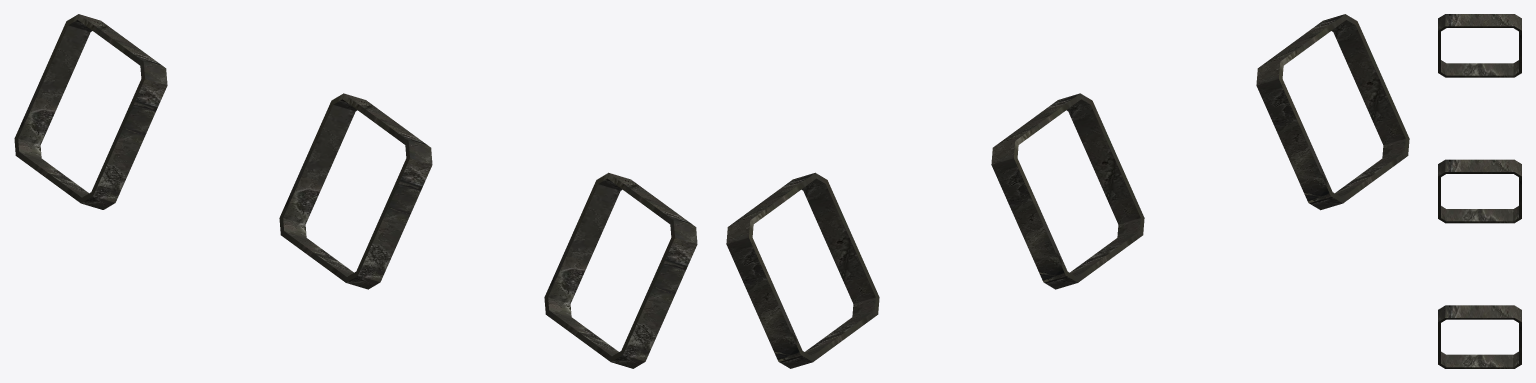
3 renders of one model, left to right at view 1: azimuth 30°, elevation 25°; view 2: azimuth 150°, elevation 25°; view 3: azimuth 270°, elevation 25°, orthographic. The views are drawn at different scales.
Parts seen in each view (by area): view 1: SM_BB_T3_Extended_Beam_Thick_Large_Vertical_02_LOD0; view 2: SM_BB_T3_Extended_Beam_Thick_Large_Vertical_02_LOD0; view 3: SM_BB_T3_Extended_Beam_Thick_Large_Vertical_02_LOD0.
Part boxes in pixels (<box>): SM_BB_T3_Extended_Beam_Thick_Large_Vertical_02_LOD0: <box>14,14,697,368</box>; SM_BB_T3_Extended_Beam_Thick_Large_Vertical_02_LOD0: <box>726,14,1409,368</box>; SM_BB_T3_Extended_Beam_Thick_Large_Vertical_02_LOD0: <box>1438,14,1521,368</box>.
Size of the model in its own units: 2.47 by 1.64 by 0.5482.
